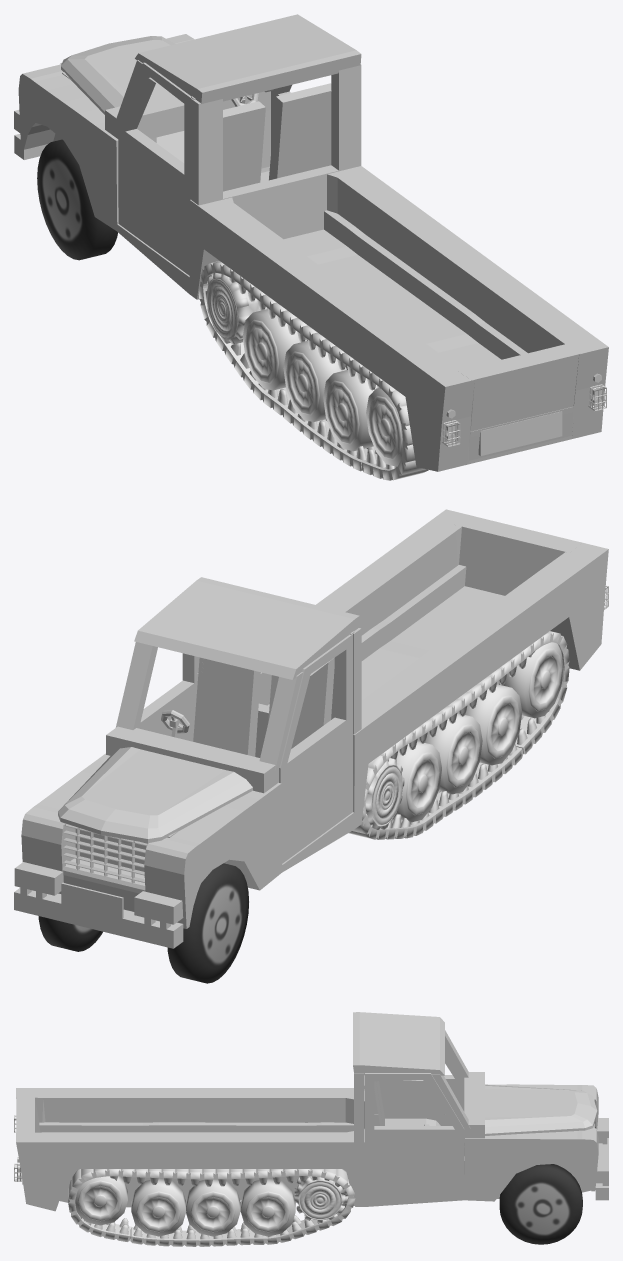
The model's file is landrover centuar.fbx.
3 renders of one model, top to bottom at view 1: azimuth 30°, elevation 25°; view 2: azimuth 150°, elevation 25°; view 3: azimuth 270°, elevation 25°, orthographic. The views are drawn at different scales.
Parts seen in each view (by area): view 1: Cube.008, Cube.009, mesh_id11, Cube.010, Cube.002, trackleft, Cube.004, Cylinder.001, mesh_id115, Cube.011, mesh_id33, Cylinder.010 (+7 smaller); view 2: Cube.008, mesh_id11, Cube.011, Cube.009, Cube.002, trackleft, Cylinder.001, Cube.004, mesh_id115, mesh_id67, mesh_id19, Cylinder.009 (+14 smaller); view 3: Cube.008, Cube.007, trackright, mesh_id11, Cylinder.004, Cube.011, Cube.009, Cube.002, Cylinder.002, Cylinder.011, Cylinder.012, Cylinder.015 (+8 smaller).
Part boxes in pixels (<box>): Cube.008: <box>18,34,608,471</box>; Cube.009: <box>53,72,527,369</box>; mesh_id11: <box>135,14,361,103</box>; Cube.010: <box>191,64,361,239</box>; Cube.002: <box>118,62,191,275</box>; trackleft: <box>198,261,428,480</box>; Cube.004: <box>458,342,587,431</box>; Cylinder.001: <box>37,139,117,260</box>; mesh_id115: <box>260,83,331,182</box>; Cube.011: <box>61,36,174,114</box>; mesh_id33: <box>223,101,265,191</box>; Cylinder.010: <box>323,370,377,451</box>; Cube.008: <box>21,509,608,928</box>; mesh_id11: <box>134,577,359,679</box>; Cube.011: <box>58,747,252,842</box>; Cube.009: <box>58,565,504,911</box>; Cube.002: <box>279,634,352,863</box>; trackleft: <box>348,631,569,839</box>; Cylinder.001: <box>167,863,248,983</box>; Cube.004: <box>454,514,582,595</box>; mesh_id115: <box>193,657,260,756</box>; mesh_id67: <box>106,726,278,793</box>; mesh_id19: <box>14,888,183,948</box>; Cylinder.009: <box>425,713,482,794</box>; Cube.008: <box>16,1084,598,1211</box>; Cube.007: <box>365,1073,464,1195</box>; trackright: <box>68,1169,355,1246</box>; mesh_id11: <box>353,1012,444,1075</box>; Cylinder.004: <box>499,1164,582,1244</box>; Cube.011: <box>485,1085,597,1135</box>; Cube.009: <box>39,1122,596,1207</box>; Cube.002: <box>379,1052,464,1125</box>; Cylinder.002: <box>240,1178,295,1236</box>; Cylinder.011: <box>131,1178,186,1236</box>; Cylinder.012: <box>186,1179,240,1236</box>; Cylinder.015: <box>75,1176,127,1225</box>.
Bounding box in the file's own units: 14.32 × 21.82 × 64.91.
